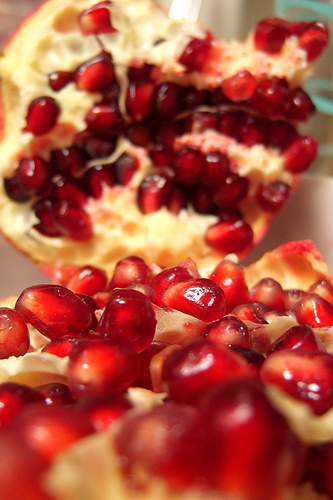pomogranate: (1, 0, 324, 281), (0, 239, 331, 498)
